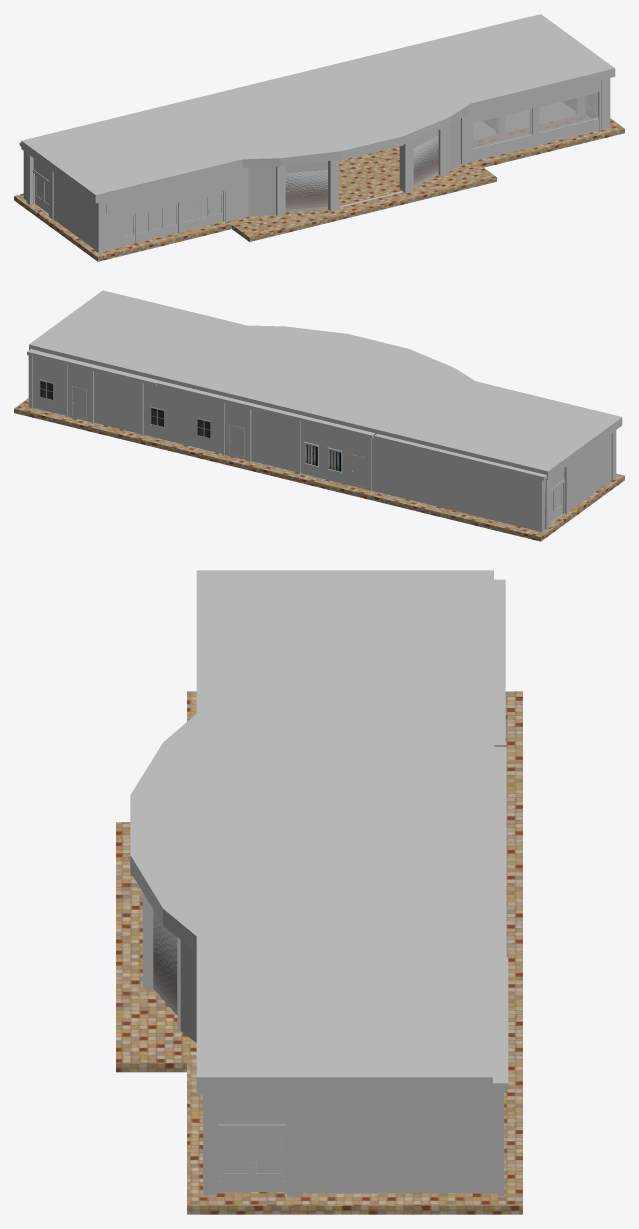
File: bldg_mall_10_a01.fbx
The picture shows the model from 3 angles, top to bottom: view 1: azimuth 30°, elevation 25°; view 2: azimuth 150°, elevation 25°; view 3: azimuth 270°, elevation 25°; orthographic projection. The views are drawn at different scales.
Visible parts, largest first — view 1: bldg_mall_10_a01; view 2: bldg_mall_10_a01; view 3: bldg_mall_10_a01.
Boxes of the visible parts, x1,y1,x2,y2 form: bldg_mall_10_a01: (14, 14, 624, 261); bldg_mall_10_a01: (14, 290, 624, 541); bldg_mall_10_a01: (116, 570, 522, 1214).
Size of the model in its own units: 37.45 by 4.41 by 12.51.
